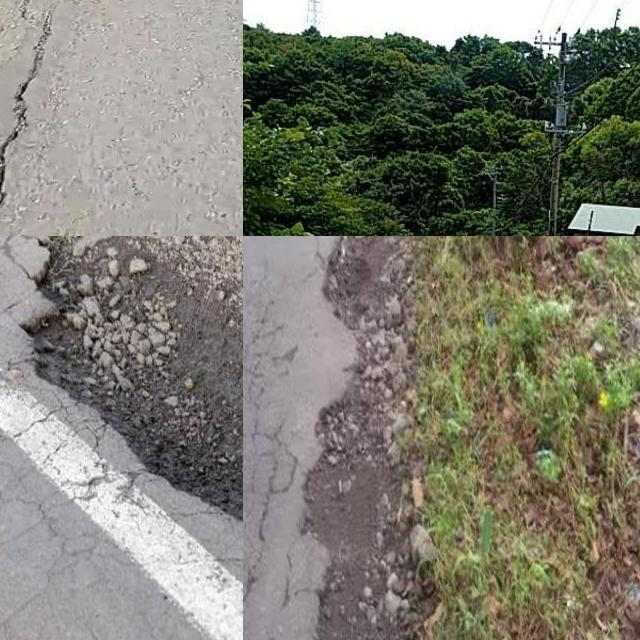Pinggir: (8, 236, 243, 543), (273, 236, 430, 640), (0, 0, 102, 236)
